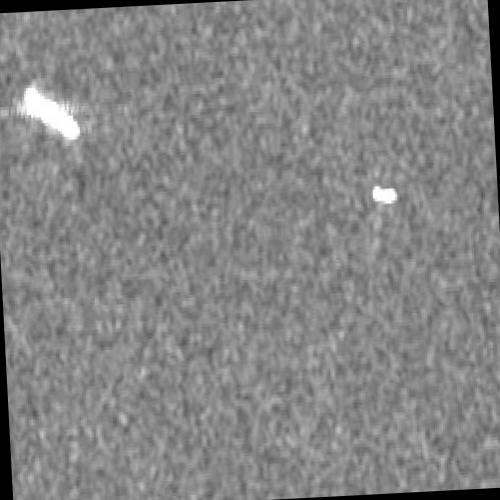ship: (20, 85, 81, 140), (371, 184, 398, 205)
